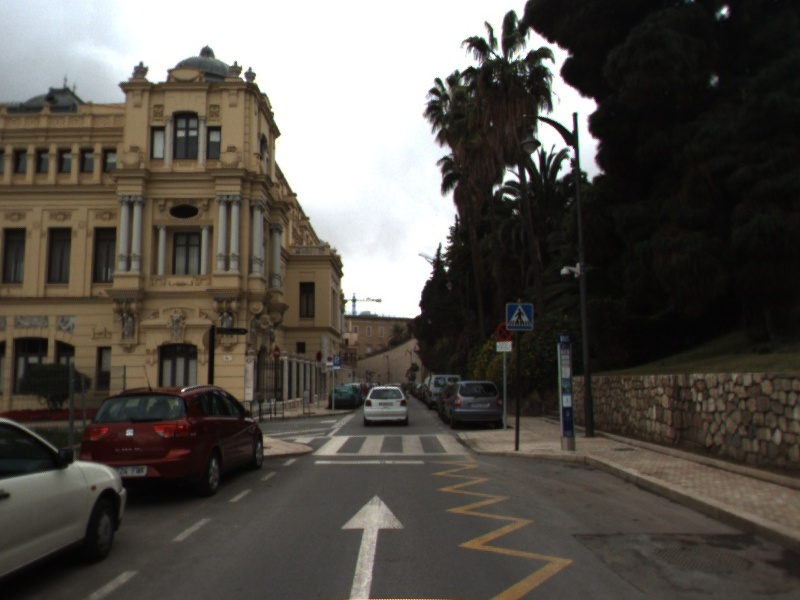STRAIGHT: (337, 491, 409, 600)
